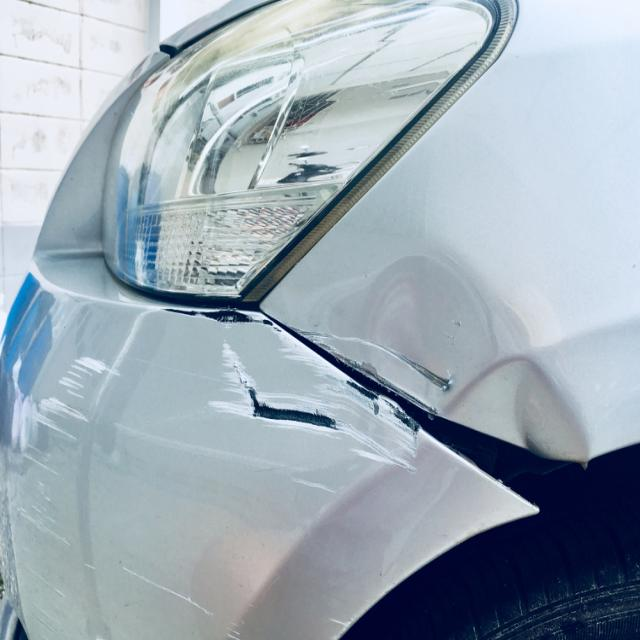dent: (293, 250, 593, 461)
scratch: (158, 306, 421, 478), (14, 347, 121, 640), (114, 564, 218, 620)
